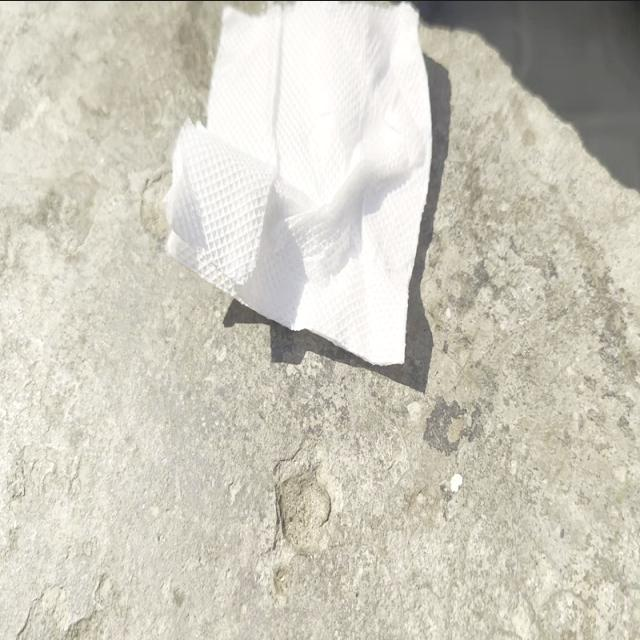tissue: (160, 0, 427, 373)
